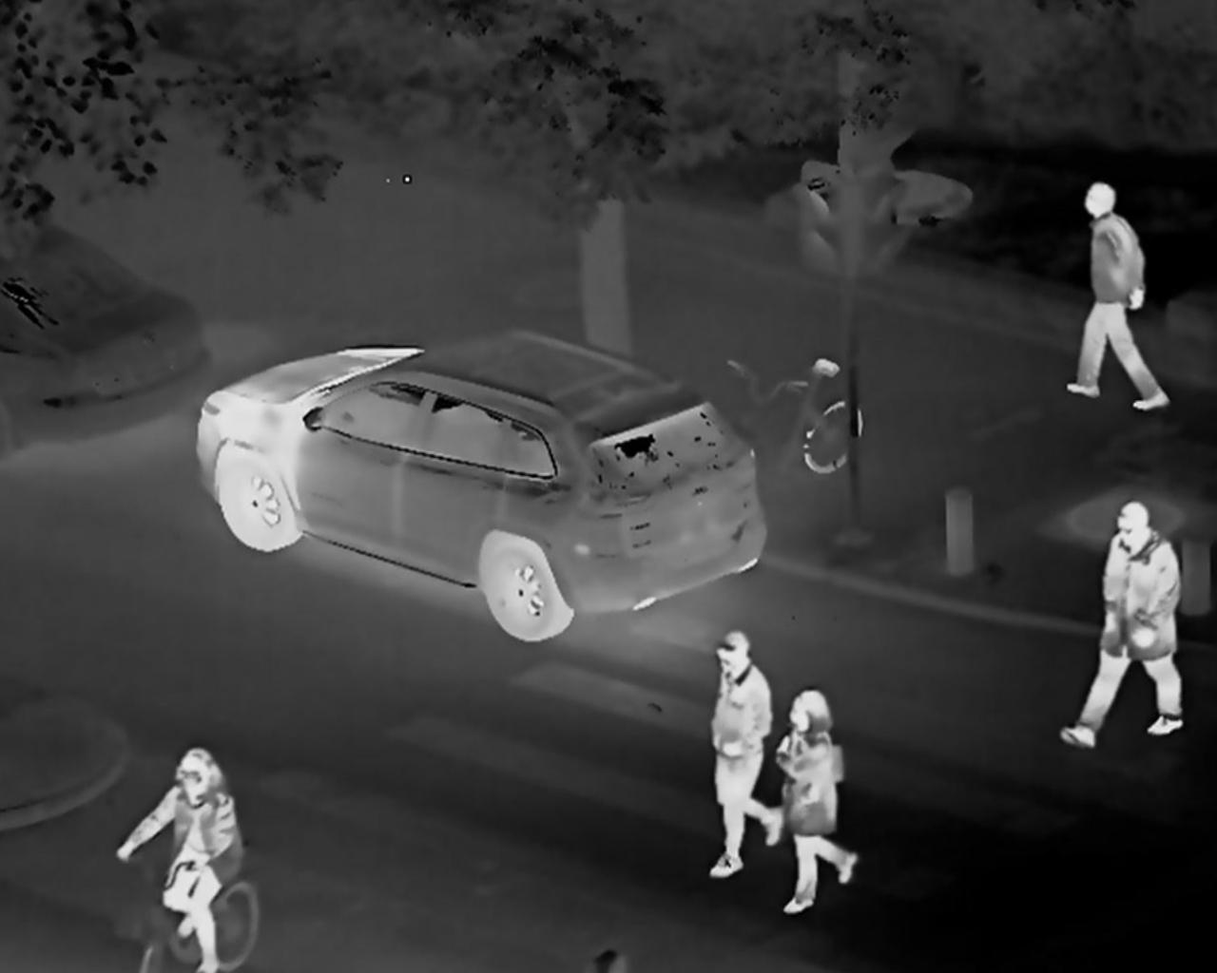person: (1058, 499, 1183, 754), (117, 747, 243, 973), (1067, 179, 1173, 412), (705, 629, 782, 882), (776, 683, 856, 915)
